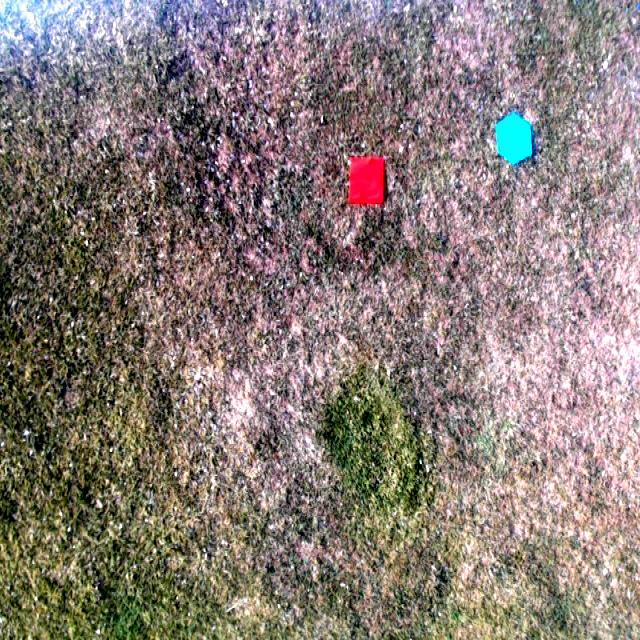blue_hexagon: (495, 114, 533, 167)
red_square: (349, 154, 385, 206)
